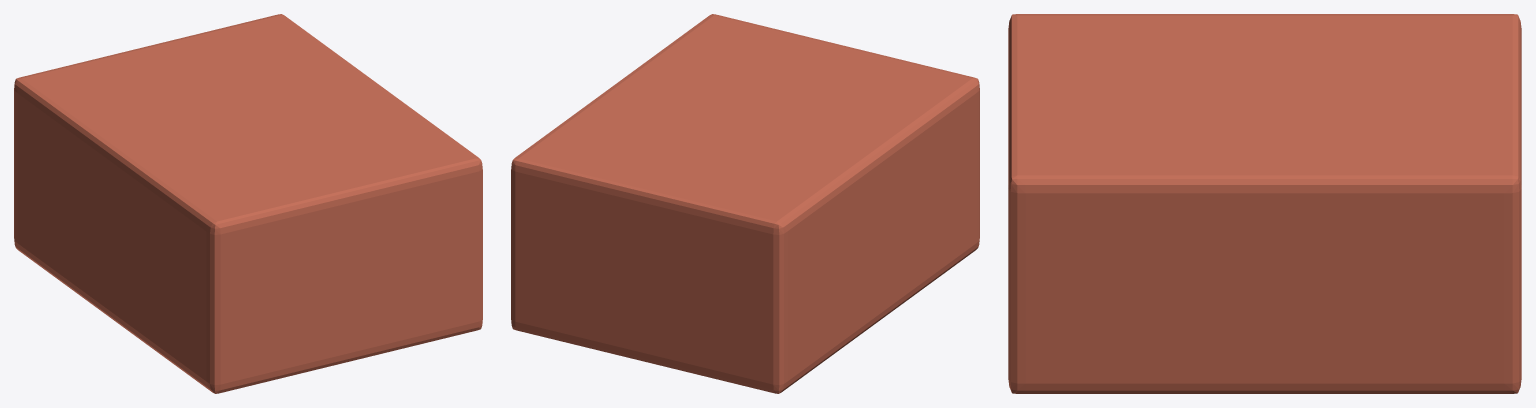
Rendered from torso_link_part_9.obj.
3 renders of one model, left to right at view 1: azimuth 30°, elevation 25°; view 2: azimuth 150°, elevation 25°; view 3: azimuth 270°, elevation 25°, orthographic. The views are drawn at different scales.
Size of the model in its own units: 0.1495 by 0.0895 by 0.1919.
